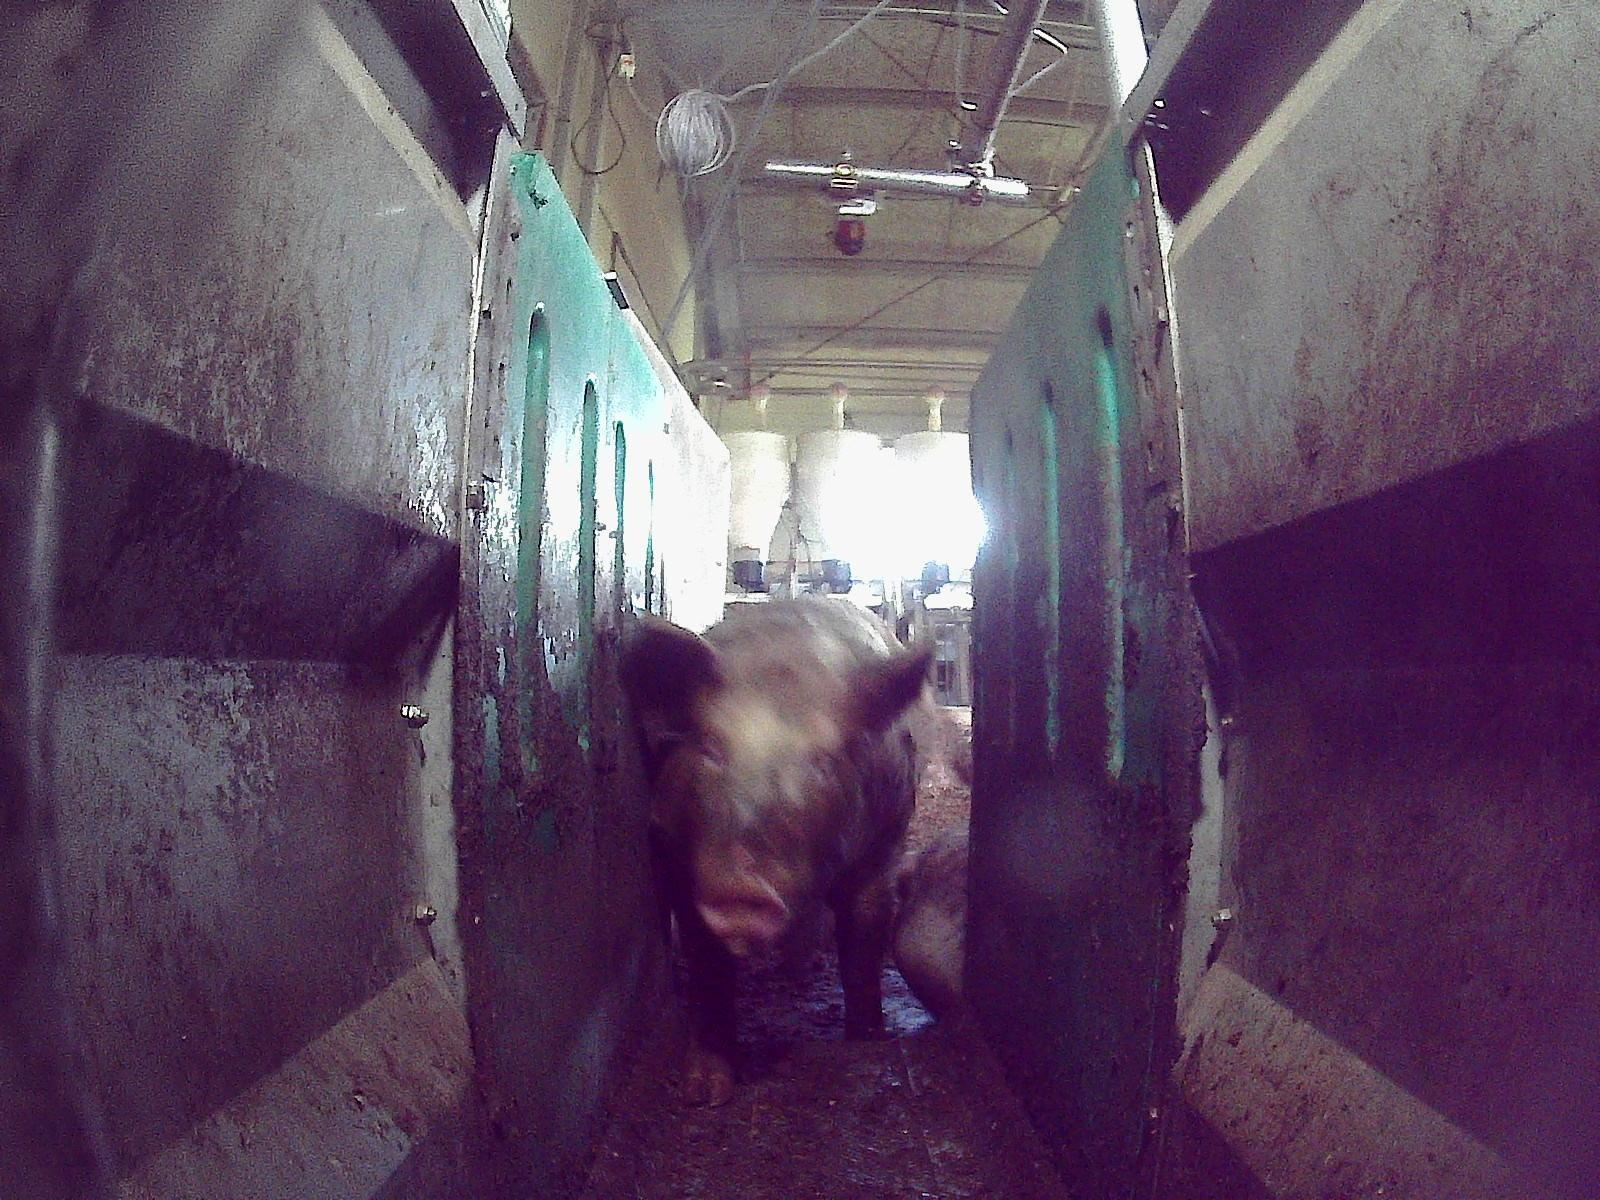Face: (674, 669, 860, 939)
